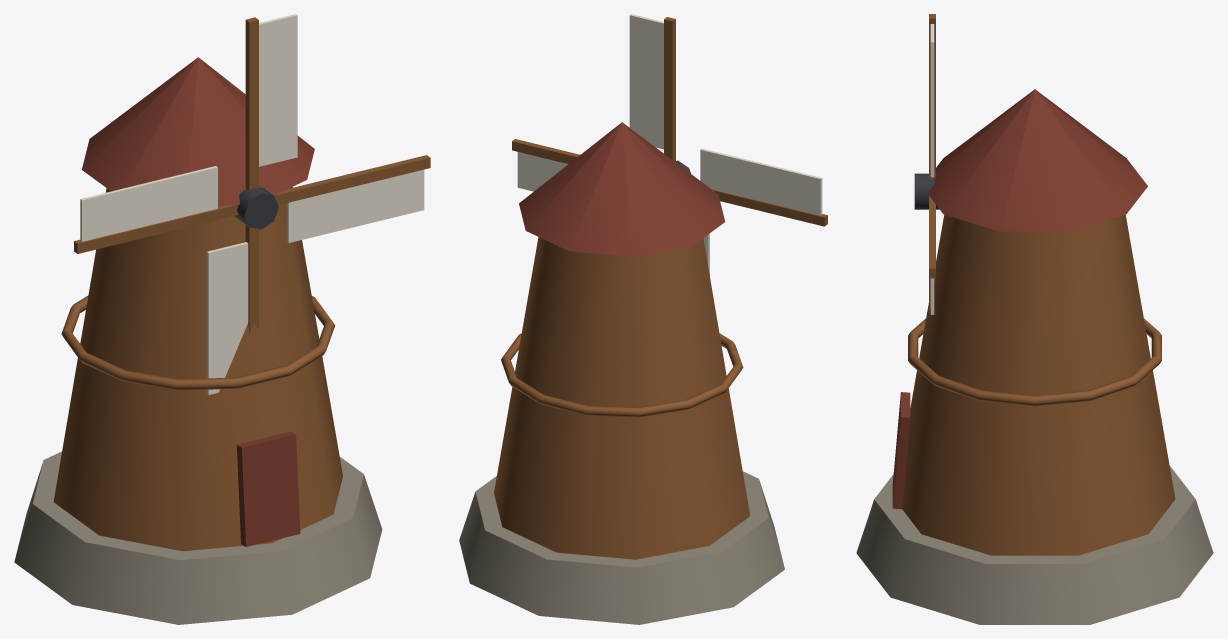
The model's file is farm-windmill.m1.clunk-optimized.glb.
The picture shows the model from 3 angles, left to right: view 1: azimuth 30°, elevation 25°; view 2: azimuth 150°, elevation 25°; view 3: azimuth 270°, elevation 25°; orthographic projection. The views are drawn at different scales.
Parts seen in each view (by area): view 1: tower_body, base_plinth, roof_cap, tower_door, blade_sail_2, blade_sail_4, blade_sail_1, blade_sail_3, deck_railing, blade_spar_1, blade_spar_4, blade_spar_2 (+2 smaller); view 2: tower_body, base_plinth, roof_cap, blade_sail_2, blade_sail_1, deck_railing, blade_spar_1, blade_sail_4, blade_spar_2, blade_spar_4; view 3: tower_body, base_plinth, roof_cap, deck_railing, tower_door, blade_sail_1, blade_spar_1, blade_hub, blade_spar_4.
Part boxes in pixels (box(x1,y1,x2,y2)): tower_body: box(53, 187, 342, 551); base_plinth: box(14, 451, 382, 624); roof_cap: box(82, 57, 314, 206); tower_door: box(237, 431, 300, 546); blade_sail_2: box(80, 166, 217, 241); blade_sail_4: box(286, 169, 424, 243); blade_sail_1: box(259, 14, 297, 166); blade_sail_3: box(206, 242, 248, 394); deck_railing: box(61, 295, 335, 390); blade_spar_1: box(245, 17, 258, 190); blade_spar_4: box(274, 155, 430, 204); blade_spar_2: box(74, 204, 238, 253); tower_body: box(494, 237, 750, 559); base_plinth: box(459, 471, 784, 624); roof_cap: box(519, 122, 725, 256); blade_sail_2: box(700, 148, 822, 215); blade_sail_1: box(629, 14, 663, 149); deck_railing: box(501, 333, 743, 417); blade_spar_1: box(664, 17, 675, 162); blade_sail_4: box(517, 152, 568, 191); blade_spar_2: box(712, 189, 827, 226); blade_spar_4: box(512, 139, 580, 163); tower_body: box(902, 214, 1175, 555); base_plinth: box(856, 466, 1213, 624); roof_cap: box(927, 89, 1147, 231); deck_railing: box(908, 318, 1161, 406); tower_door: box(892, 392, 910, 509); blade_sail_1: box(930, 24, 934, 177); blade_spar_1: box(929, 14, 935, 178); blade_hub: box(914, 173, 939, 209); blade_spar_4: box(929, 196, 935, 278).
Size of the model in its own units: 3.25 by 4.97 by 3.
